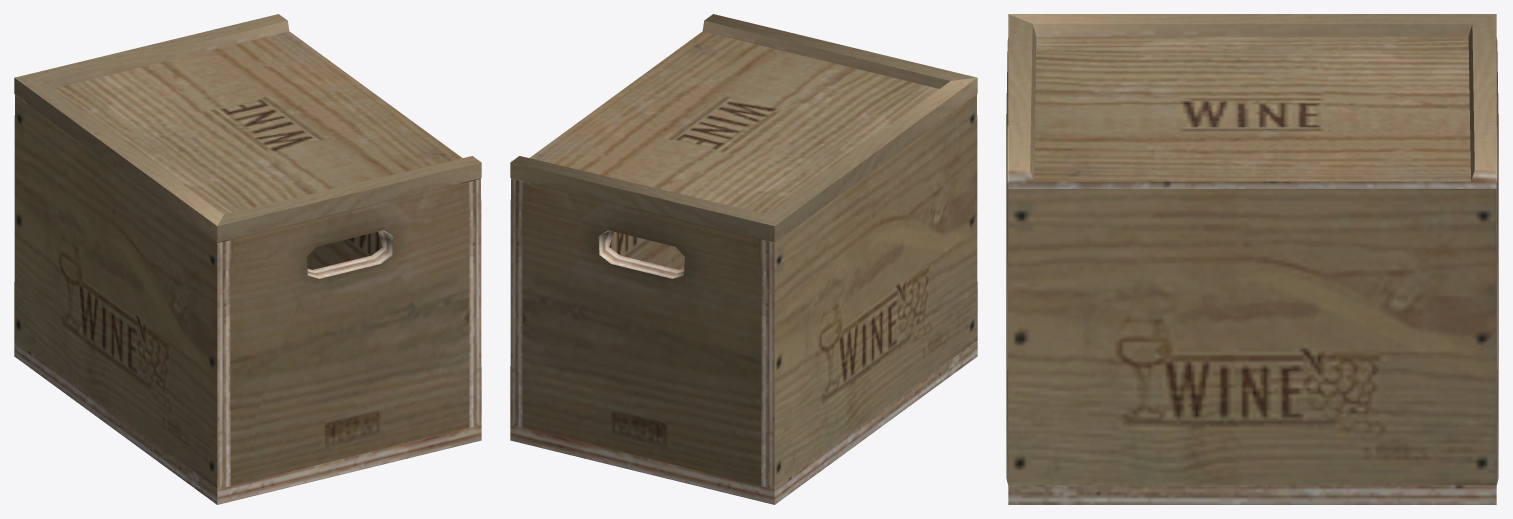
The model's file is com_wine_crate_close_lod1.glb.
3 views of the same model, side by side, from view 1: azimuth 30°, elevation 25°; view 2: azimuth 150°, elevation 25°; view 3: azimuth 270°, elevation 25° (orthographic). The views are drawn at different scales.
Visible parts, largest first — view 1: surf0; view 2: surf0; view 3: surf0.
Part boxes in pixels (x1,y1,x2,y2): surf0: (14, 14, 481, 504); surf0: (510, 14, 977, 504); surf0: (1006, 14, 1498, 504).
Bounding box in the file's own units: 17.92 × 18.06 × 24.
